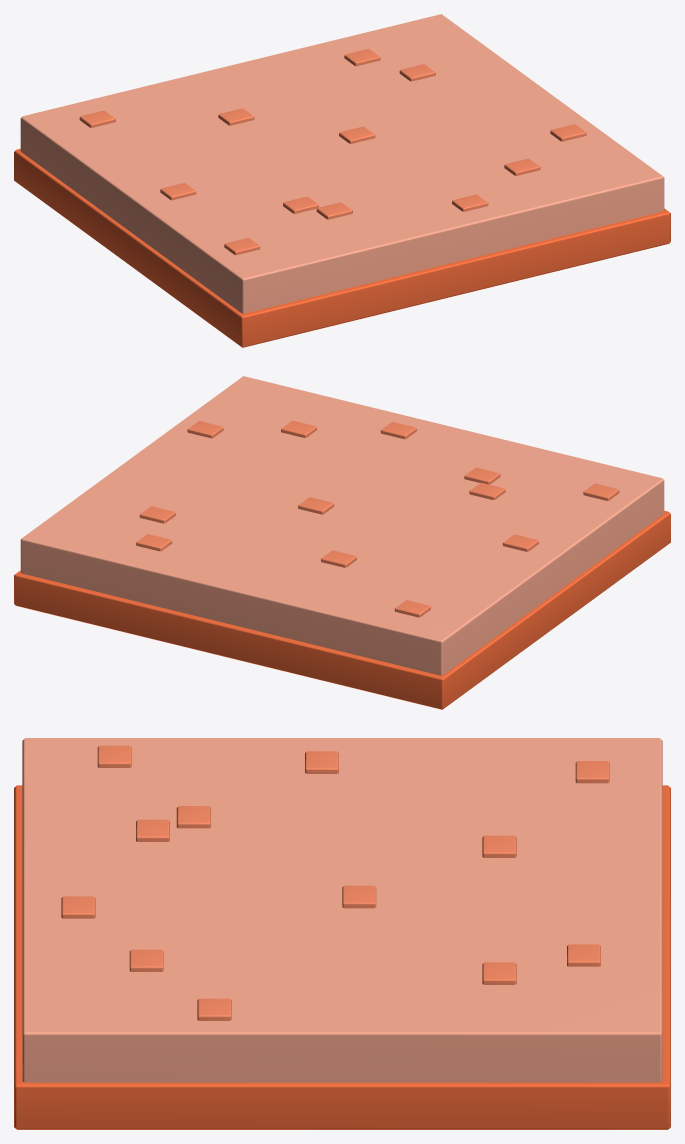
The model's file is Store_3_Base_1.glb.
3 renders of one model, top to bottom at view 1: azimuth 30°, elevation 25°; view 2: azimuth 150°, elevation 25°; view 3: azimuth 270°, elevation 25°, orthographic. The views are drawn at different scales.
Parts seen in each view (by area): view 1: Store_3_Base_1; view 2: Store_3_Base_1; view 3: Store_3_Base_1.
Boxes of the visible parts, x1=… form: Store_3_Base_1: x1=14, y1=14, x2=670, y2=347; Store_3_Base_1: x1=14, y1=376, x2=670, y2=709; Store_3_Base_1: x1=14, y1=738, x2=670, y2=1129.
Size of the model in its own units: 10.92 by 1.71 by 10.06.
Materials: 1 (1 with a texture image).
